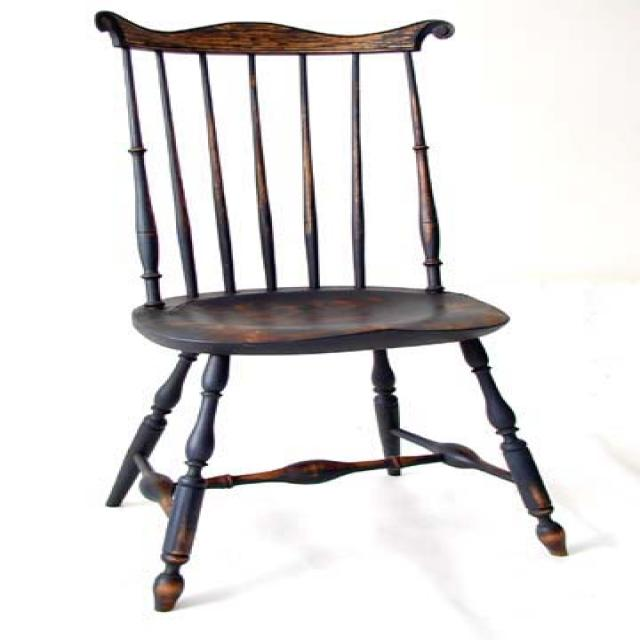chair: (94, 9, 569, 612)
